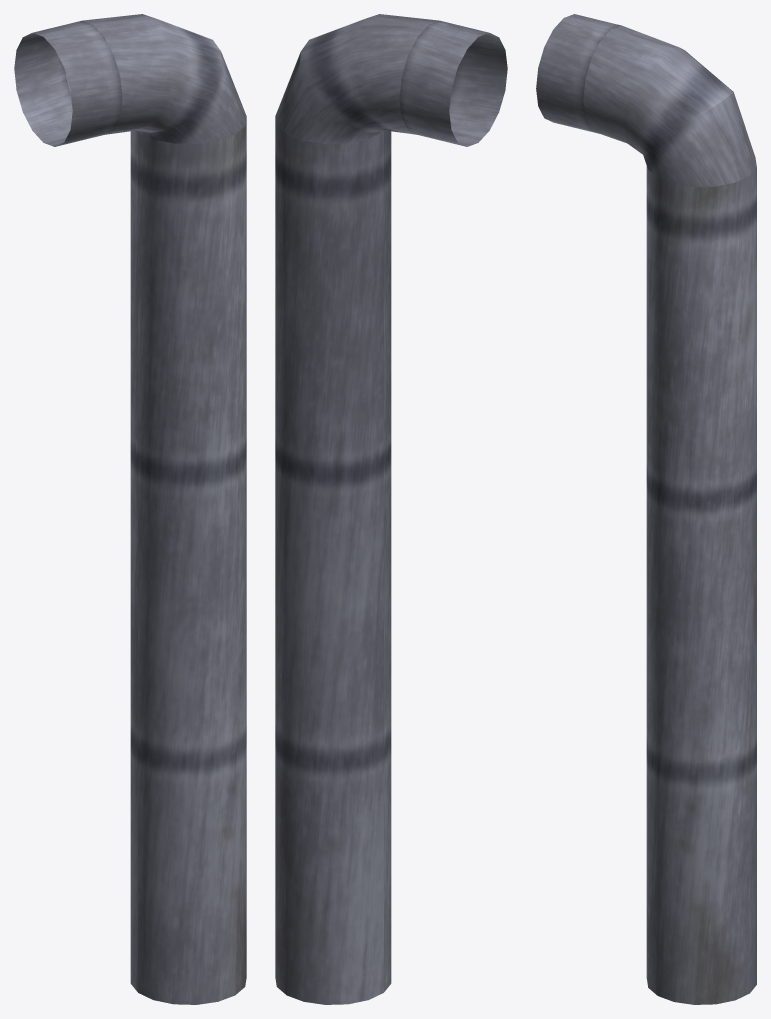
Rendered from Pipes_5.fbx.
3 renders of one model, left to right at view 1: azimuth 30°, elevation 25°; view 2: azimuth 150°, elevation 25°; view 3: azimuth 330°, elevation 25°, orthographic. The views are drawn at different scales.
Visible parts, largest first — view 1: Pipes5; view 2: Pipes5; view 3: Pipes5.
Part boxes in pixels (bbox=[...]): Pipes5: bbox=[14, 14, 246, 1004]; Pipes5: bbox=[275, 14, 507, 1004]; Pipes5: bbox=[536, 14, 756, 1004].
Bounding box in the file's own units: 91.3 × 436 × 47.2.
